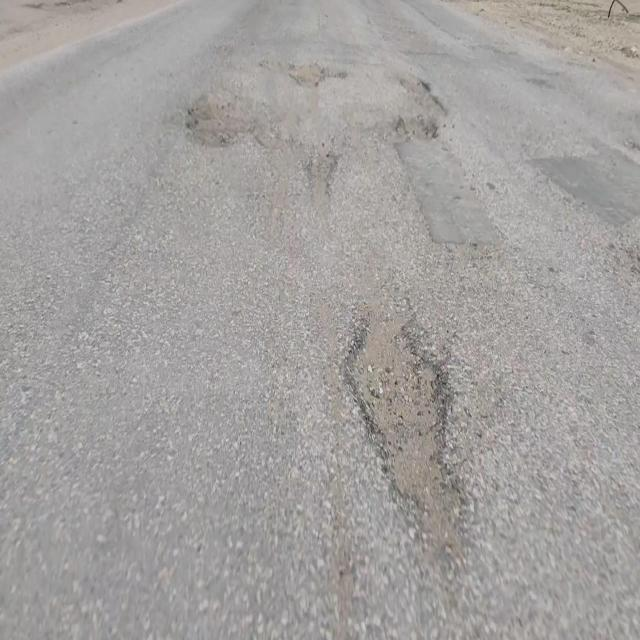Potholes: (341, 303, 468, 556), (184, 88, 253, 146), (307, 137, 335, 210), (288, 59, 331, 86), (396, 116, 439, 141), (399, 69, 433, 94)
